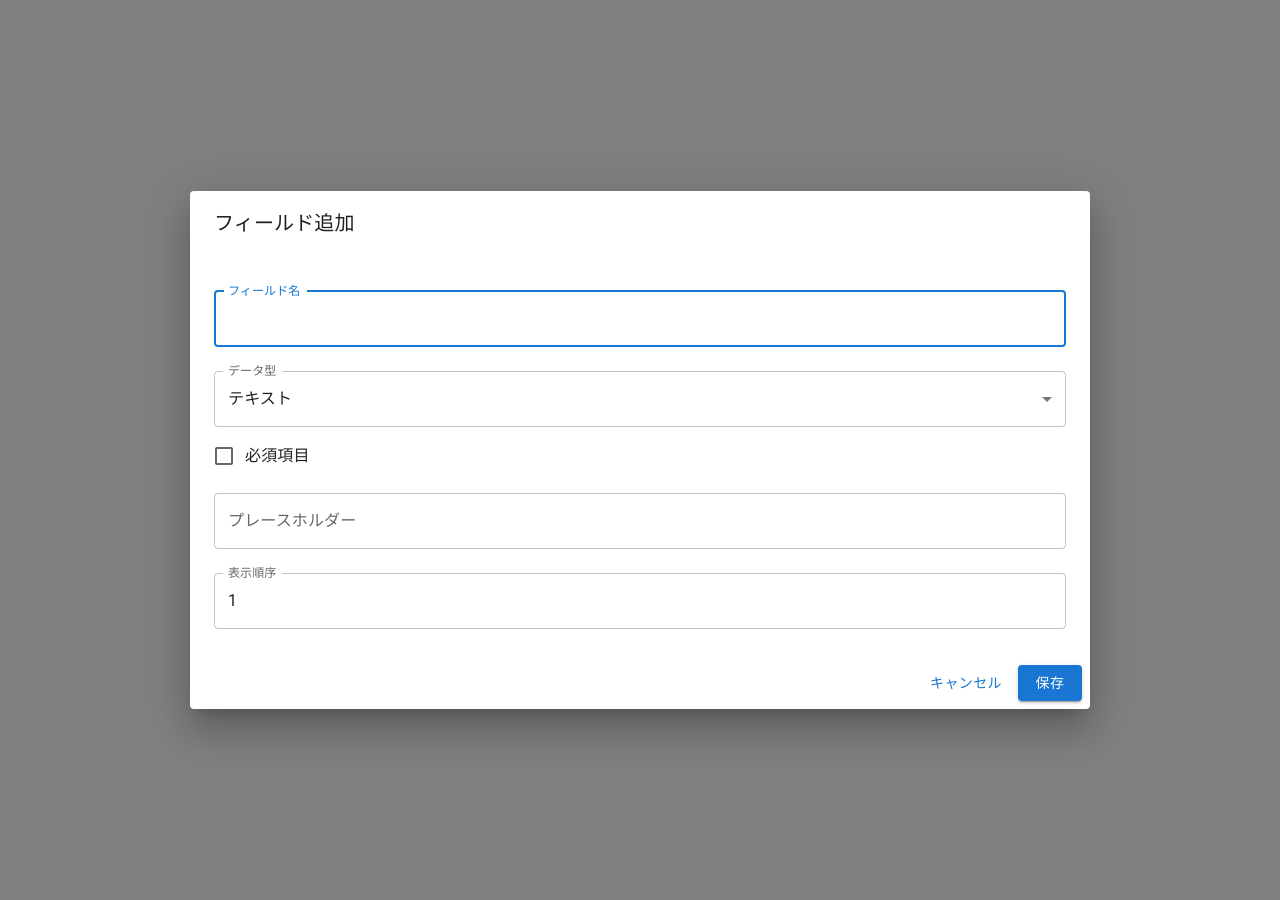
FieldForm › should validate required fields
This screenshot has width=1280, height=900.
What coordinates should you click on to do the following:
click the button "保存"
I would click on:
 (1050, 683)
Its box is [1018,665,1082,701].
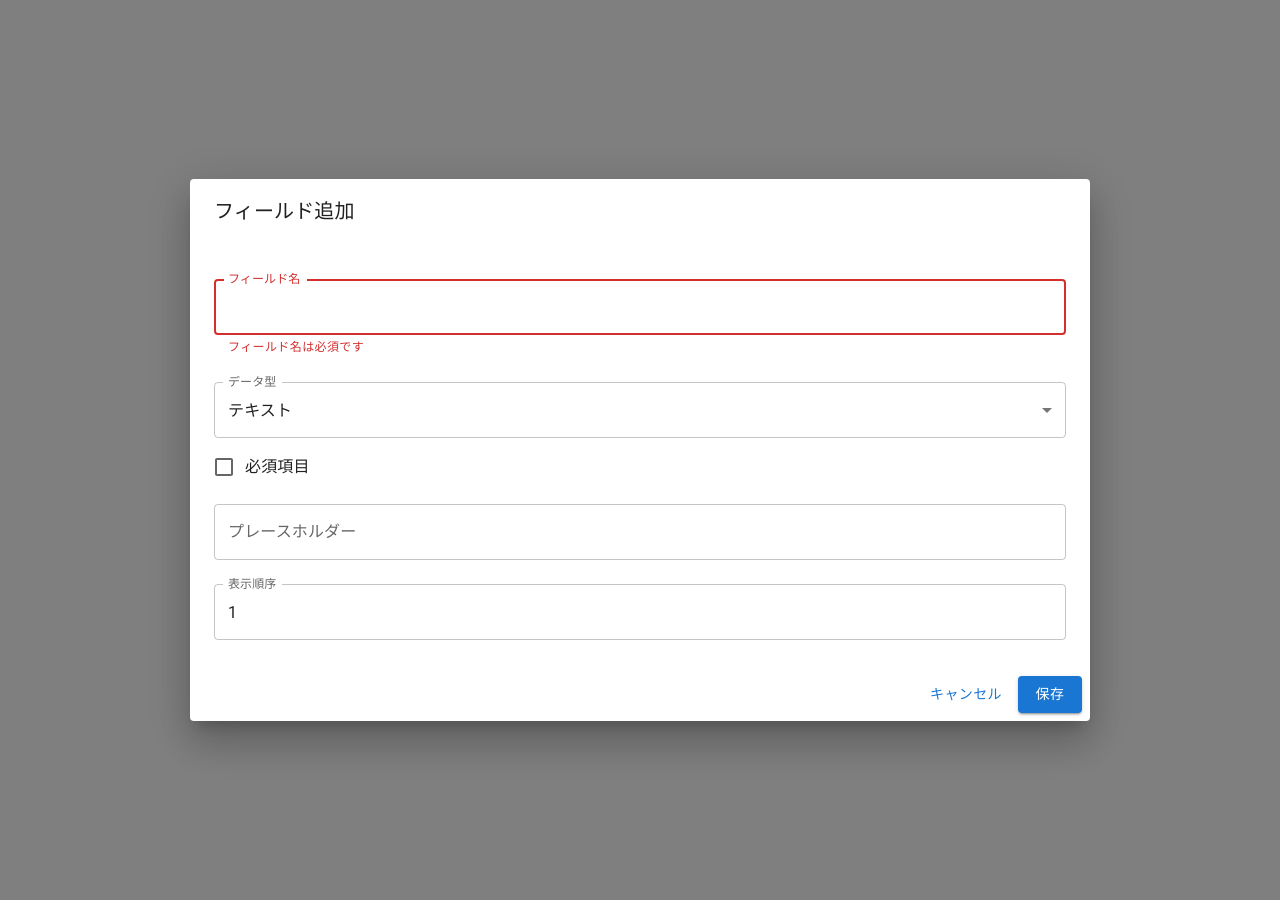
Expected: the text "フィールド名は必須です" is shown, [228,340,364,354]
